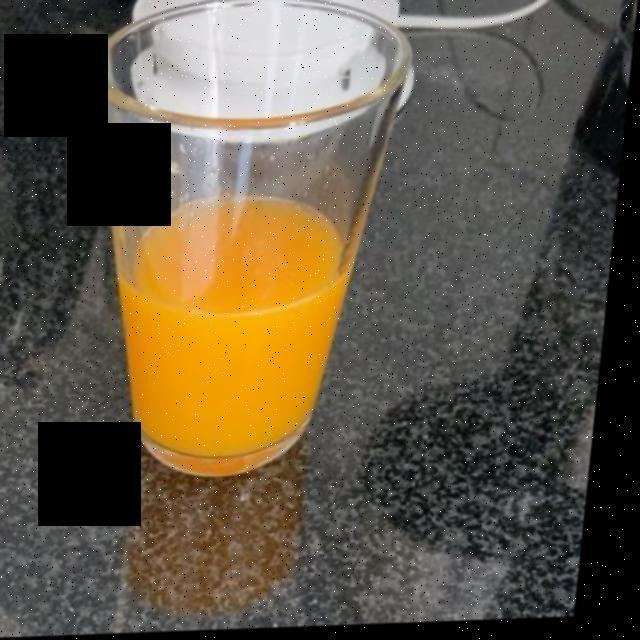juice: (129, 200, 351, 454)
